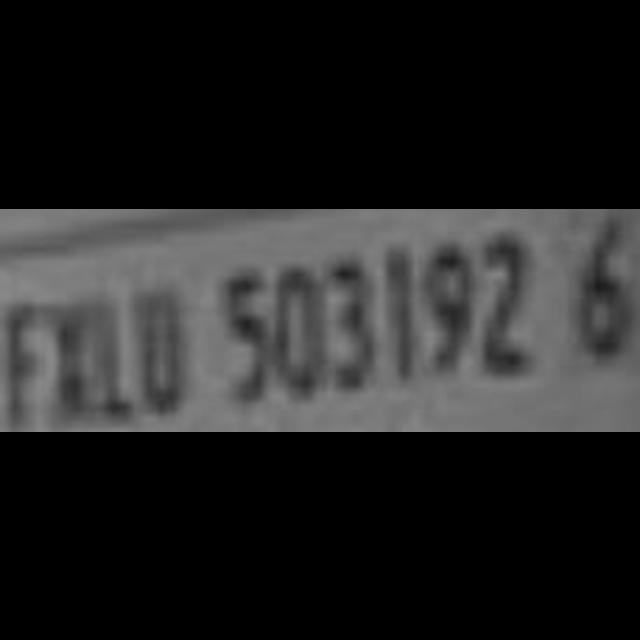0: (273, 247, 333, 418)
1: (374, 233, 422, 384)
2: (478, 221, 542, 381)
3: (324, 248, 382, 400)
5: (220, 259, 276, 409)
6: (566, 208, 640, 370)
9: (418, 229, 480, 389)
f: (0, 293, 50, 432)
l: (92, 283, 142, 431)
u: (130, 271, 194, 429)
x: (46, 295, 98, 429)
